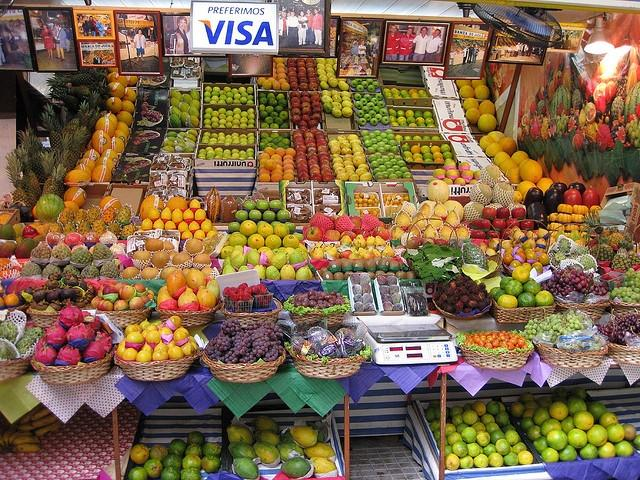apple: (310, 172, 322, 183), (298, 172, 310, 182), (294, 144, 306, 154), (308, 163, 320, 172), (306, 152, 318, 161), (304, 136, 316, 145), (331, 146, 342, 155), (352, 146, 364, 154), (308, 120, 318, 129), (320, 164, 331, 172), (306, 146, 318, 153), (381, 116, 390, 125), (300, 90, 310, 98), (290, 91, 301, 98), (315, 132, 326, 139), (397, 160, 406, 168), (296, 57, 306, 64), (310, 90, 320, 97), (378, 165, 387, 172), (383, 145, 392, 152), (309, 77, 318, 84), (293, 130, 303, 136), (306, 58, 314, 65), (350, 80, 358, 87), (306, 142, 316, 147), (372, 82, 379, 88)
grape: (570, 269, 578, 276), (622, 295, 630, 302), (328, 290, 336, 296), (549, 328, 555, 336), (566, 274, 572, 281), (294, 302, 301, 308), (564, 278, 570, 284), (250, 336, 256, 342), (264, 324, 270, 330), (240, 358, 246, 364), (212, 340, 218, 346), (238, 331, 244, 337), (239, 348, 245, 354), (574, 278, 580, 284), (552, 335, 558, 341), (532, 318, 538, 324), (580, 288, 586, 294), (211, 354, 217, 360), (610, 291, 616, 297), (258, 341, 264, 346), (634, 282, 640, 287), (541, 282, 547, 287), (269, 324, 274, 330), (335, 299, 345, 302), (274, 326, 279, 332), (544, 317, 550, 322), (522, 332, 528, 337), (631, 272, 636, 278), (580, 314, 585, 320), (217, 340, 222, 346), (584, 340, 593, 343), (602, 289, 607, 294), (620, 322, 625, 327), (556, 314, 561, 319), (259, 333, 264, 338), (220, 356, 224, 362), (314, 294, 321, 297), (235, 324, 240, 328), (562, 292, 566, 297), (552, 270, 557, 274), (632, 299, 637, 303), (262, 340, 267, 344), (222, 338, 227, 342), (228, 338, 232, 343), (242, 351, 246, 356), (231, 318, 235, 323), (240, 342, 244, 346), (582, 273, 586, 277), (278, 340, 282, 344), (564, 296, 568, 300), (234, 316, 238, 320), (625, 319, 629, 323), (553, 292, 557, 296), (600, 324, 604, 328), (617, 315, 621, 319), (262, 351, 266, 355), (222, 321, 225, 326), (253, 357, 256, 362), (226, 359, 230, 362), (568, 315, 572, 318), (272, 339, 276, 342), (266, 352, 270, 355), (568, 331, 572, 334), (633, 326, 636, 328), (572, 290, 576, 291), (258, 330, 260, 332)
lemon: (166, 196, 188, 210), (136, 348, 152, 362), (146, 330, 162, 344), (173, 326, 190, 338), (152, 348, 168, 360), (168, 346, 184, 358), (122, 348, 138, 360), (147, 206, 160, 220), (171, 208, 183, 223), (194, 208, 207, 220), (160, 207, 172, 220), (140, 318, 150, 332), (201, 220, 212, 232), (142, 219, 154, 230), (164, 220, 177, 230), (194, 229, 205, 240), (153, 219, 164, 229), (178, 222, 189, 232), (188, 221, 200, 230), (181, 230, 193, 239), (190, 198, 200, 208), (206, 230, 218, 237), (205, 218, 212, 225)
pineapple: (15, 141, 41, 200), (5, 151, 31, 206), (62, 99, 88, 136), (42, 111, 62, 149), (46, 162, 68, 195), (70, 125, 90, 160), (48, 90, 80, 111), (46, 73, 94, 86), (60, 131, 76, 170), (612, 240, 632, 271), (38, 150, 56, 184), (596, 236, 614, 262), (84, 90, 100, 118), (30, 128, 45, 156), (76, 82, 104, 96), (626, 241, 640, 266), (78, 110, 92, 132), (80, 67, 90, 74)
watermelon: (36, 194, 66, 222)
